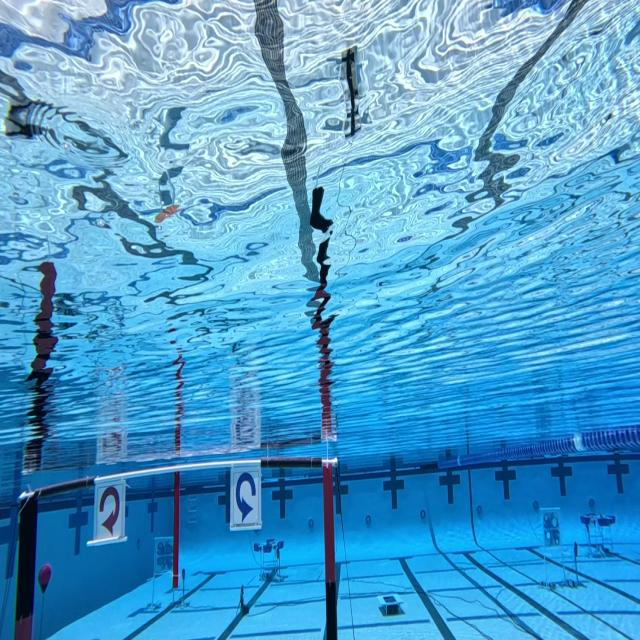blue_side: (228, 456, 270, 534)
red_side: (88, 471, 126, 549)
